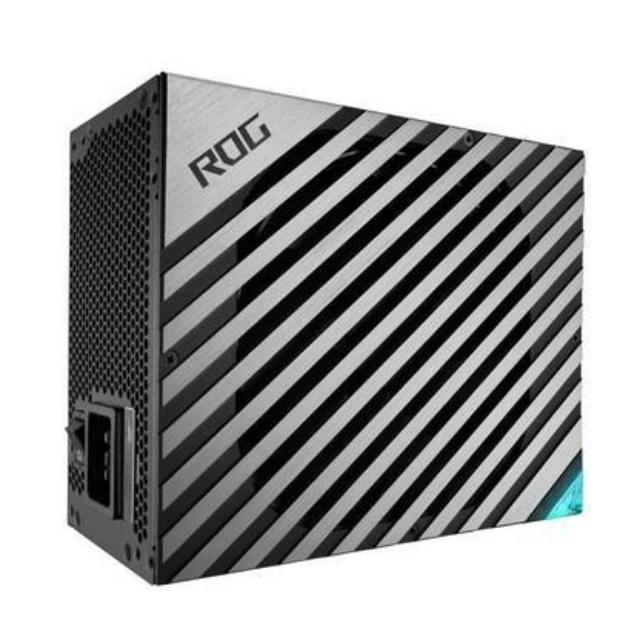PSU: (59, 68, 596, 596)
